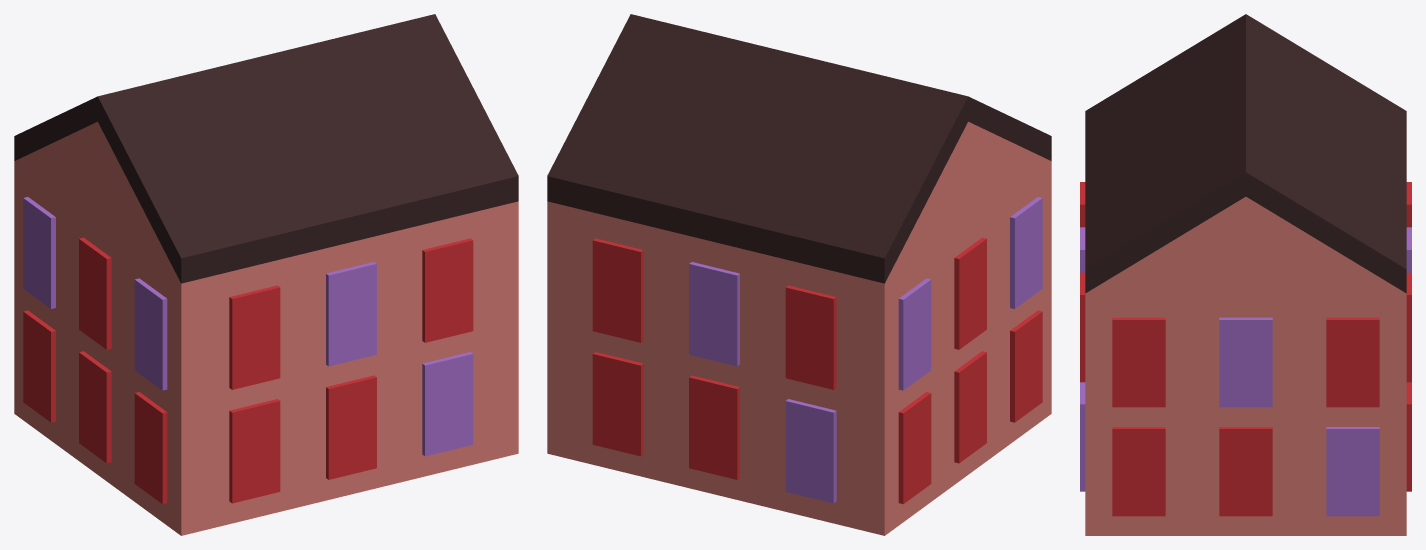
File: house2.fbx
3 views of the same model, side by side, from view 1: azimuth 30°, elevation 25°; view 2: azimuth 150°, elevation 25°; view 3: azimuth 270°, elevation 25° (orthographic). The views are drawn at different scales.
Visible parts, largest first — view 1: Cube.001; view 2: Cube.001; view 3: Cube.001.
Part boxes in pixels (box(x1,y1,x2,y2)): Cube.001: box(14, 14, 518, 535); Cube.001: box(547, 14, 1051, 535); Cube.001: box(1080, 14, 1411, 535).
Bounding box in the file's own units: 720 × 750 × 620.
